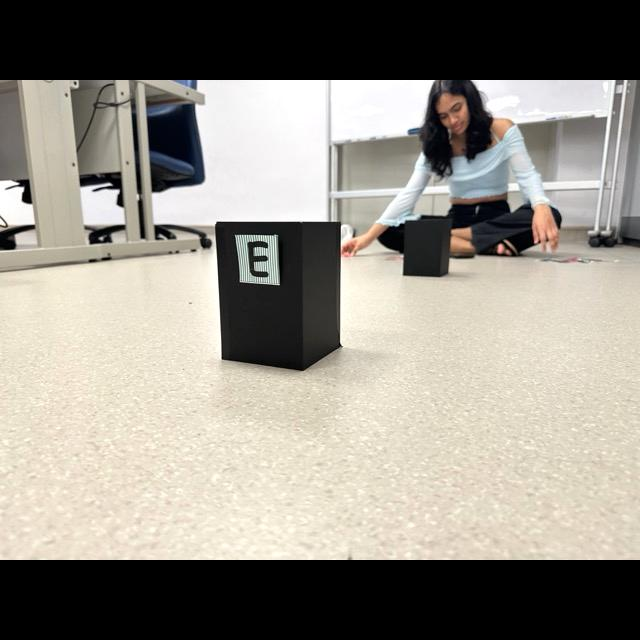E: (247, 242, 269, 278)
